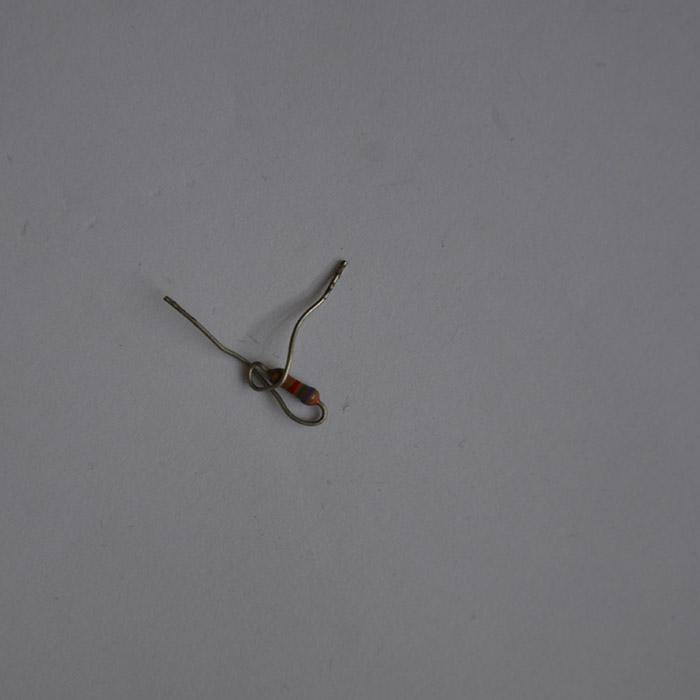resistor: (267, 368, 321, 406)
